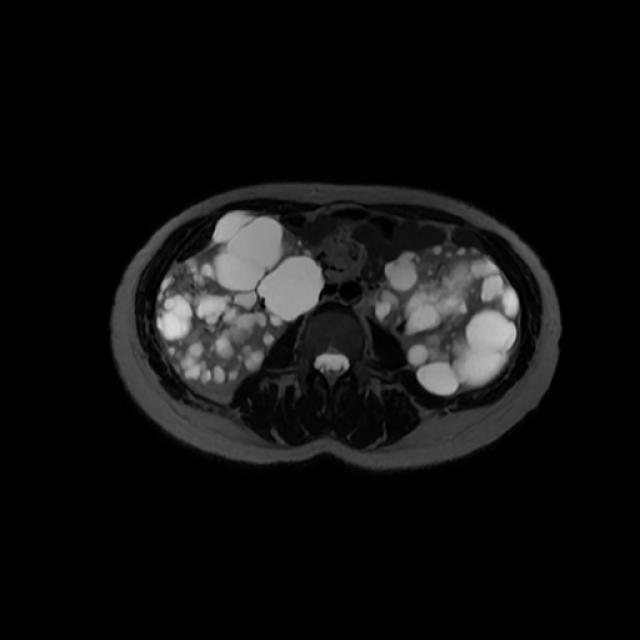sag: (159, 212, 321, 385)
sol: (372, 243, 517, 393)
